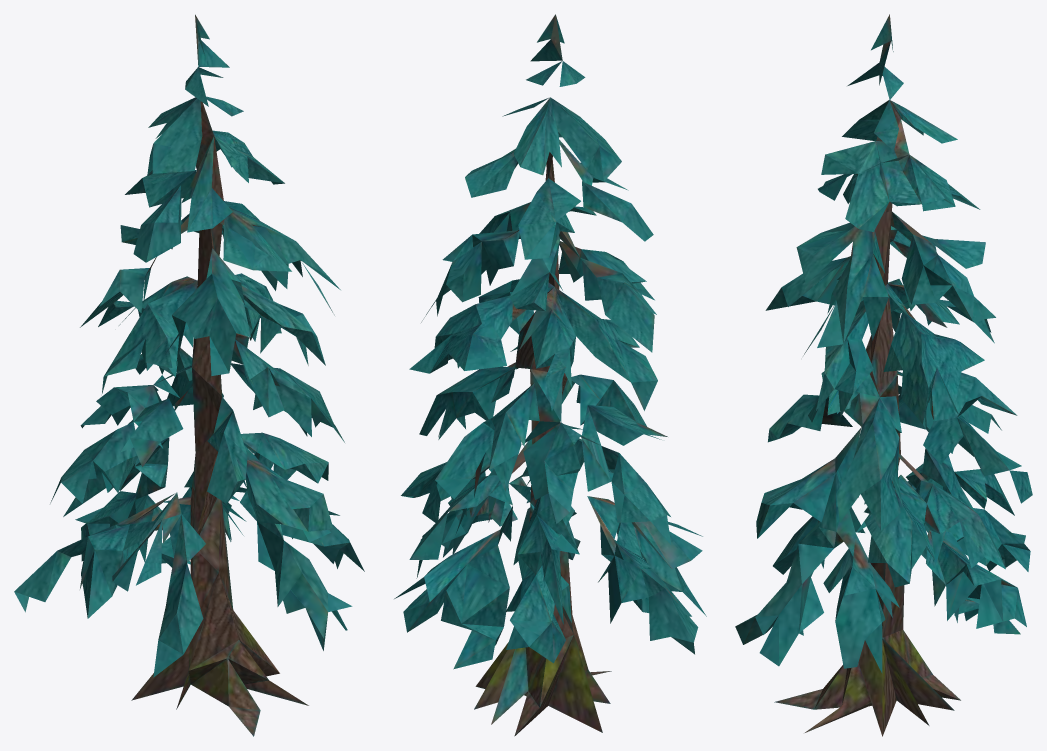
Rendered from fir_tree.glb.
The picture shows the model from 3 angles, left to right: view 1: azimuth 30°, elevation 25°; view 2: azimuth 150°, elevation 25°; view 3: azimuth 270°, elevation 25°; orthographic projection. The views are drawn at different scales.
Parts seen in each view (by area): view 1: Mesh_0; view 2: Mesh_0; view 3: Mesh_0.
Part boxes in pixels (<box>): Mesh_0: <box>14,14,364,736</box>; Mesh_0: <box>394,14,706,736</box>; Mesh_0: <box>735,14,1032,736</box>.
Bounding box in the file's own units: 0.8888 × 1.9 × 0.7445.
Materials: 1 (1 with a texture image).
